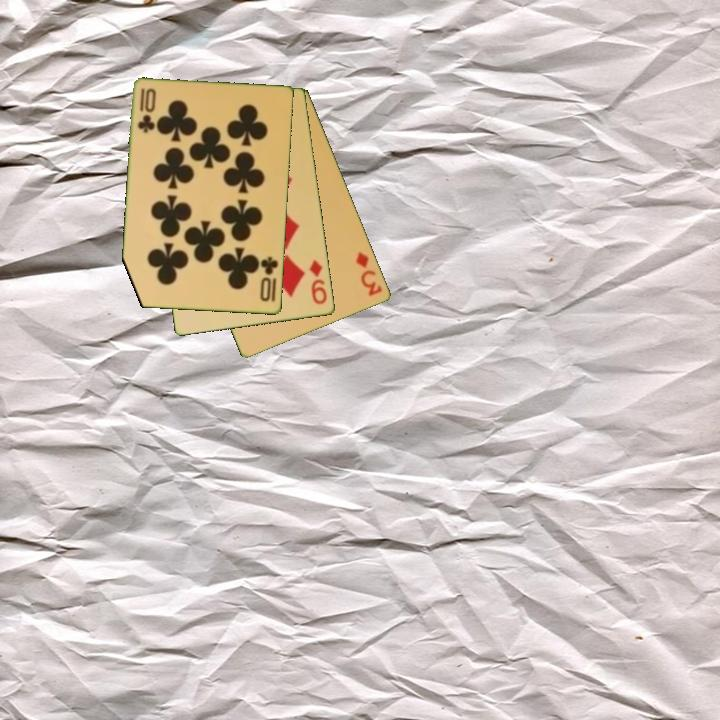10c: (257, 253, 281, 305), (134, 85, 156, 136)
3d: (352, 249, 386, 299)
9d: (306, 257, 330, 307)
